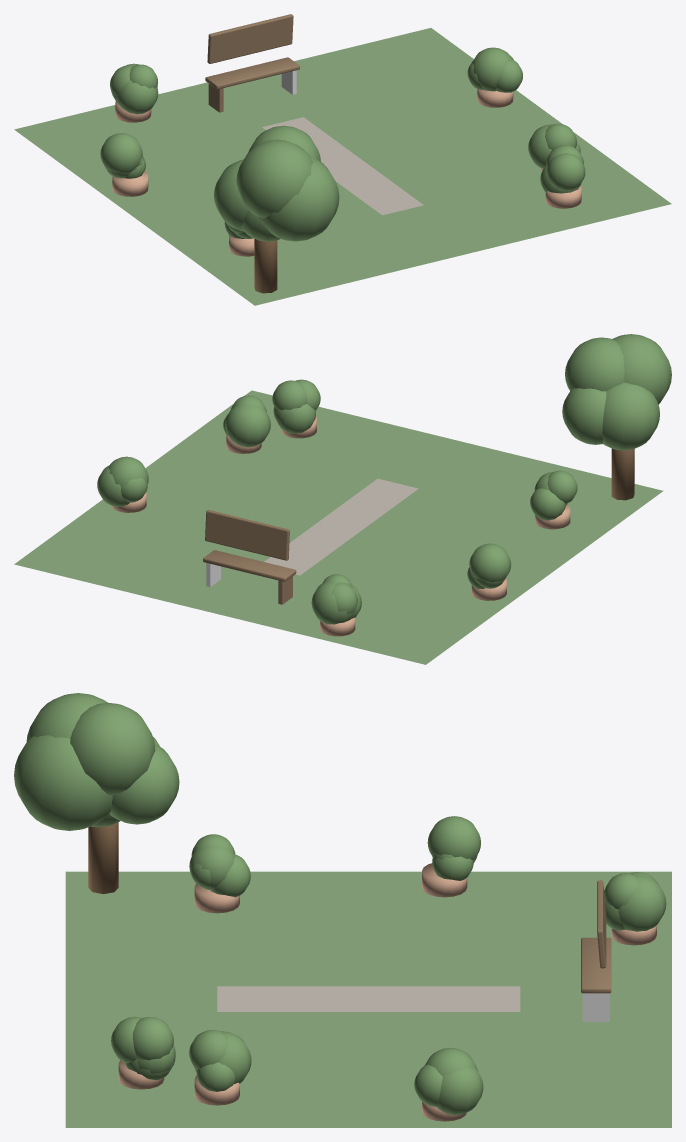
Rendered from garden.glb.
3 views of the same model, one above another, from view 1: azimuth 30°, elevation 25°; view 2: azimuth 150°, elevation 25°; view 3: azimuth 270°, elevation 25° (orthographic). The views are drawn at different scales.
Parts seen in each view (by area): view 1: Ground, Canopy_5, StonePath, Canopy_0, BenchBack, Canopy_4, Leaf_2_3, BenchSeat, TreeTrunk, Leaf_5_0, Leaf_3_3, Leaf_4_2 (+10 smaller); view 2: Ground, StonePath, Canopy_4, BenchBack, Canopy_3, Canopy_5, Canopy_2, Leaf_1_1, BenchSeat, Leaf_2_3, TreeTrunk, Leaf_4_0 (+8 smaller); view 3: Ground, StonePath, Canopy_0, Canopy_3, Canopy_2, TreeTrunk, Canopy_5, Leaf_4_0, Leaf_2_3, Leaf_3_0, BenchSeat, Leaf_5_2 (+16 smaller).
Part boxes in pixels (x1,y1,x2,y2): Ground: [14, 28, 671, 305]; Canopy_5: [236, 139, 313, 218]; StonePath: [262, 117, 423, 215]; Canopy_0: [258, 157, 339, 241]; BenchBack: [207, 14, 293, 63]; Canopy_4: [214, 159, 248, 231]; Leaf_2_3: [100, 133, 142, 173]; BenchSeat: [205, 57, 299, 89]; TreeTrunk: [254, 238, 277, 293]; Leaf_5_0: [547, 153, 585, 190]; Leaf_3_3: [472, 47, 512, 91]; Leaf_4_2: [117, 80, 158, 114]; Ground: [14, 390, 663, 664]; StonePath: [264, 478, 418, 575]; Canopy_4: [602, 382, 659, 450]; BenchBack: [205, 510, 289, 560]; Canopy_3: [565, 337, 624, 391]; Canopy_5: [612, 334, 671, 404]; Canopy_2: [562, 388, 606, 444]; Leaf_1_1: [225, 404, 270, 447]; BenchSeat: [203, 550, 296, 581]; Leaf_2_3: [469, 543, 511, 582]; TreeTrunk: [611, 448, 634, 500]; Leaf_4_0: [311, 581, 355, 624]; Ground: [65, 871, 671, 1127]; StonePath: [217, 986, 520, 1011]; Canopy_0: [14, 735, 112, 830]; Canopy_3: [70, 702, 155, 795]; Canopy_2: [109, 744, 179, 824]; TreeTrunk: [88, 822, 118, 893]; Canopy_5: [26, 693, 107, 741]; Leaf_4_0: [618, 875, 666, 931]; Leaf_2_3: [427, 816, 480, 859]; Leaf_3_0: [436, 1067, 483, 1115]; BenchSeat: [581, 937, 611, 993]; Leaf_5_2: [132, 1017, 173, 1060].
Bounding box in the file's own units: 8.26 × 2.81 × 8.68.
